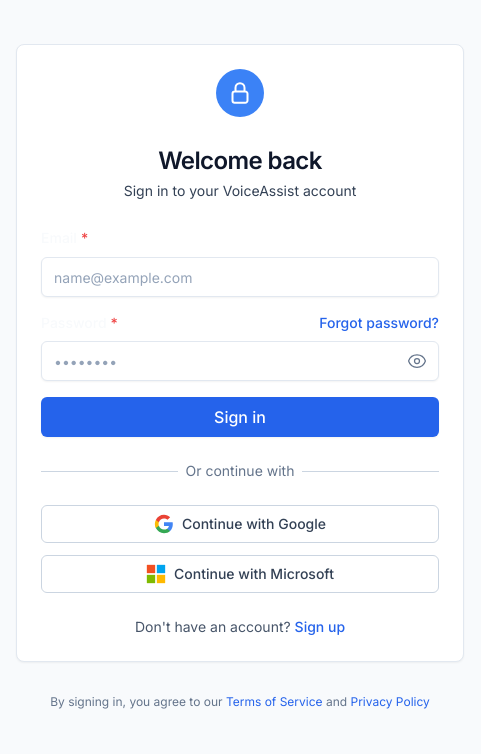
Test case: Login Flow Integration › should show validation error for invalid email
The image size is (481, 754).
Type "not-an-email" into the field labelled "Email*" at x=240, y=277, box [41,257,439,297]
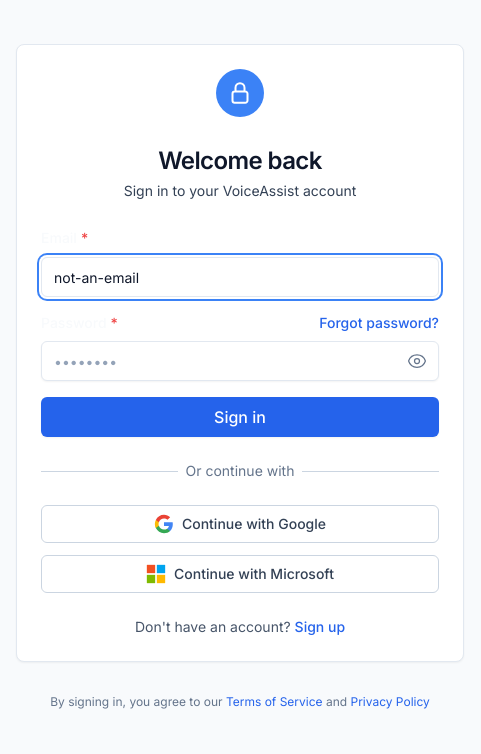
Click the button "Sign in" at x=240, y=417, box [41,397,439,437]
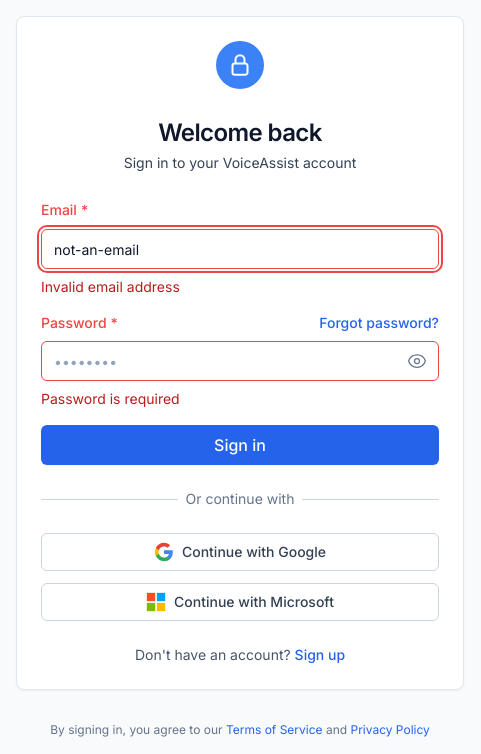
Check: the text "Invalid email address" is shown, box [41,278,180,295]
